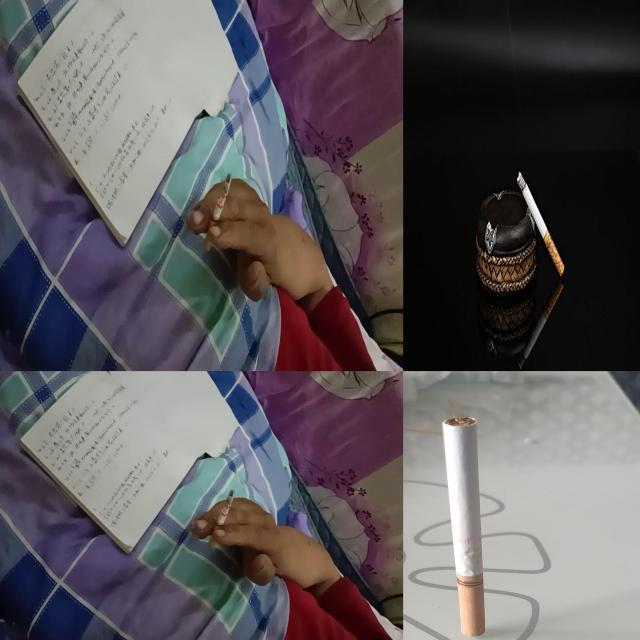smoke: (444, 418, 488, 637), (516, 166, 566, 276), (516, 279, 566, 366), (202, 173, 232, 252), (208, 488, 235, 548)
